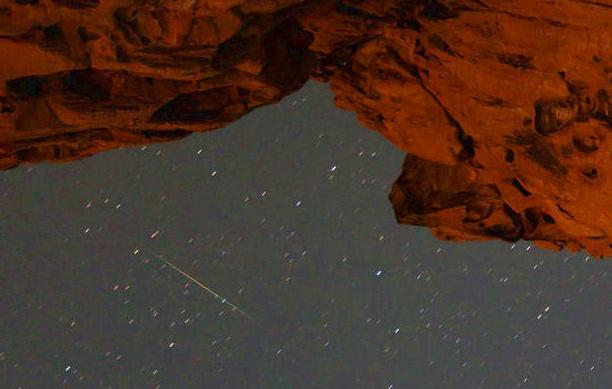meteorite: (145, 229, 248, 314)
